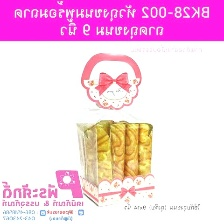snack: (69, 43, 167, 212)
